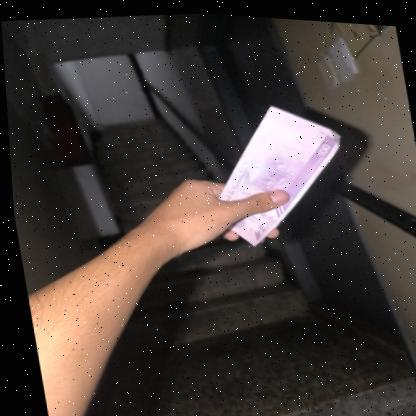one_hundred-back-vef: (196, 90, 356, 253)
